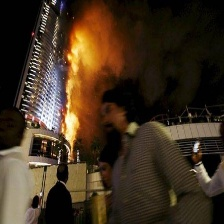fire: (66, 37, 82, 143)
